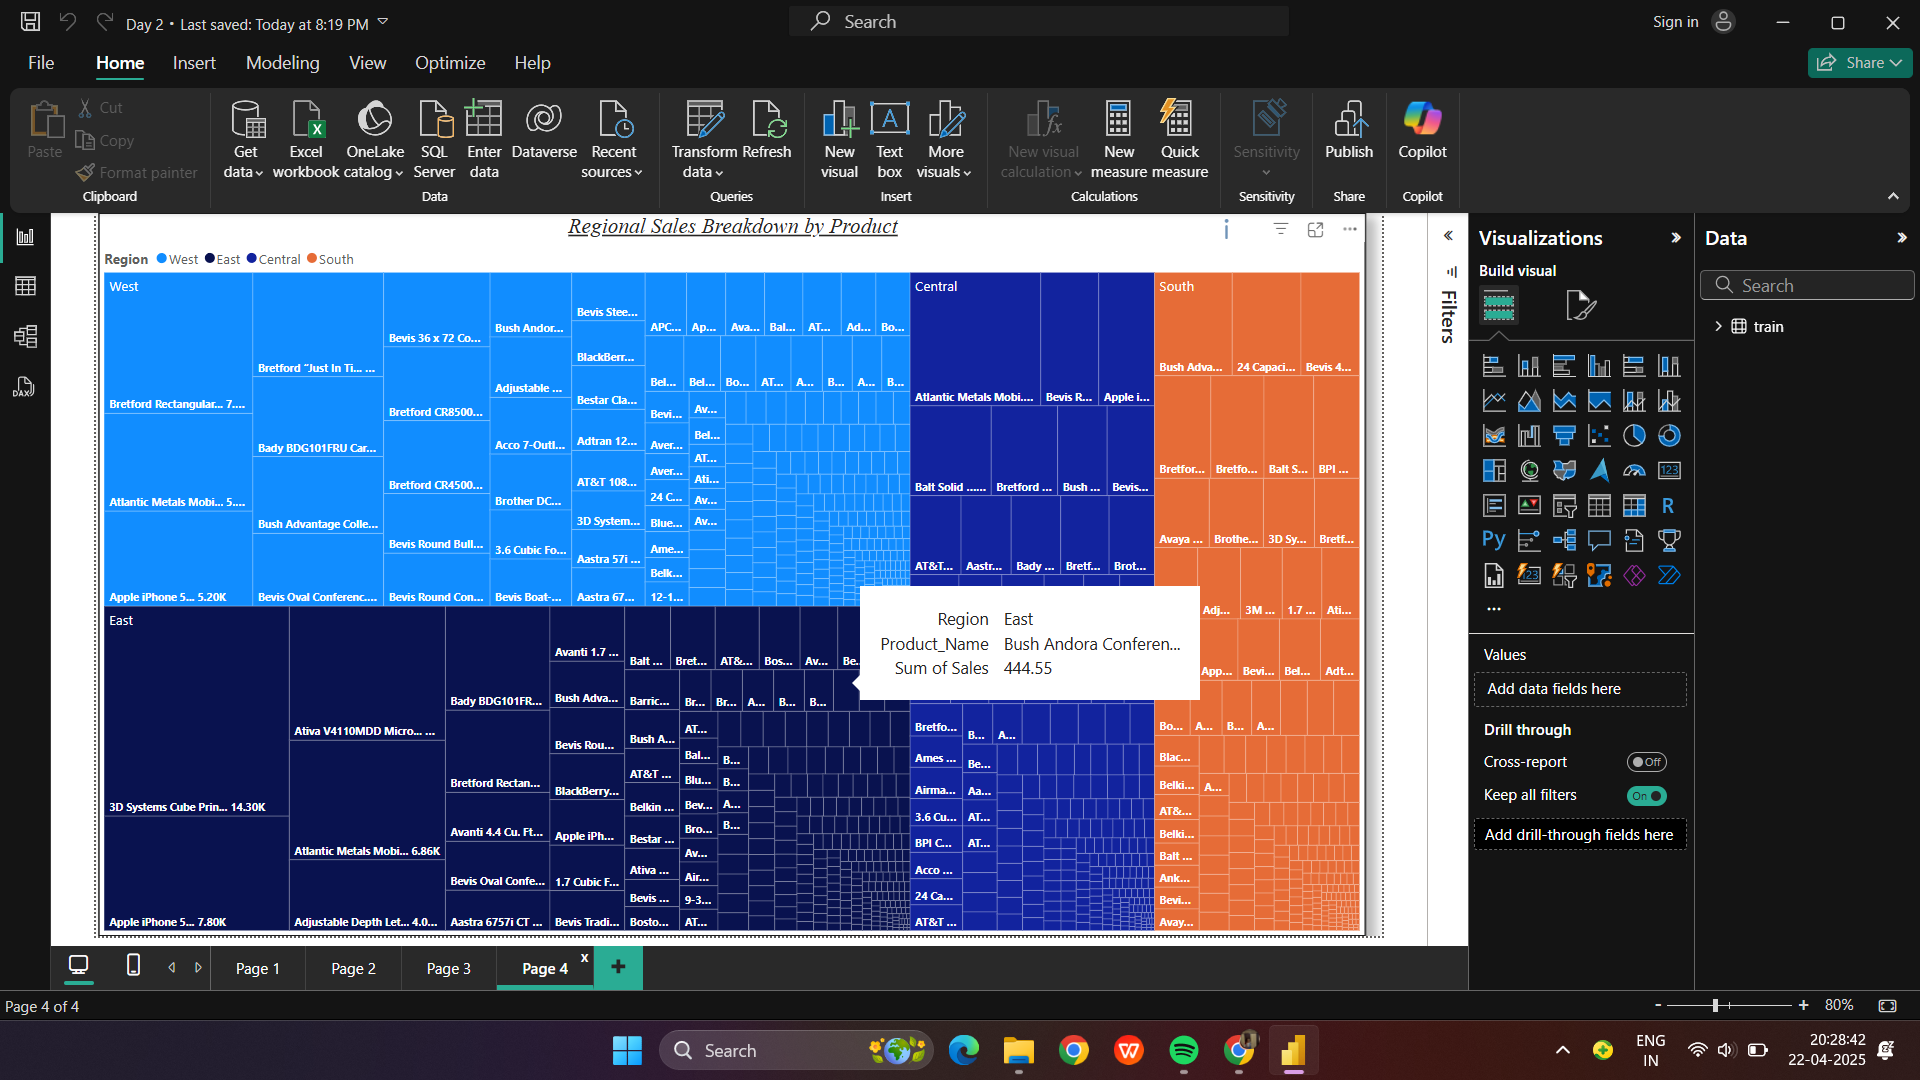

This screenshot's page, from the dashboard's own definition file:
{"tool":"powerbi","page":{"name":"Page 4","canvas":[1280,720],"ordinal":3},"visuals":[{"type":"treemap","title":"Regional Sales Breakdown by Product","fields":{"Values":["Sum(train.Sales)"],"Group":["train.Region"],"Details":["train.Product_Name"]},"box":[3,0,1261.4,720.3],"z":0}]}

Visuals, with their boxes on the page's 1280x720 design canvas (x1, y1, x2, y2). These are canvas units, not pixel positions in the 1920x1080 screenshot, which may show the page scaled, cropped or inside an application window:
"Regional Sales Breakdown by Product" treemap: 3/0/1264/720
